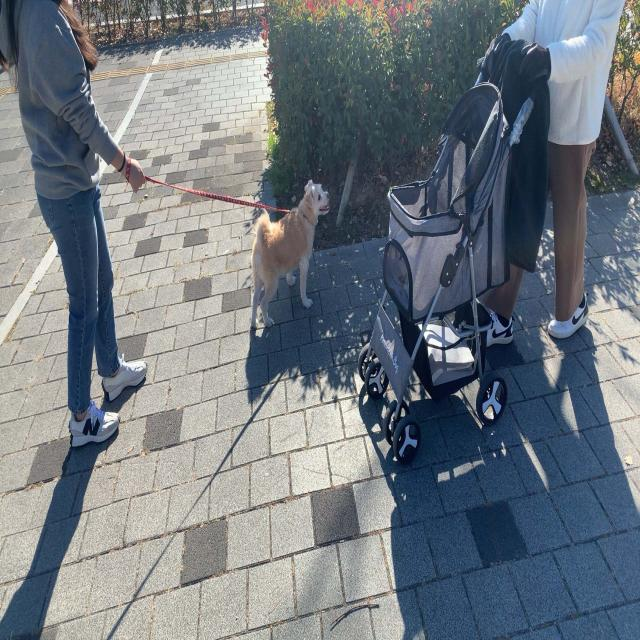Leashed_Dog: (62, 114, 330, 328)
